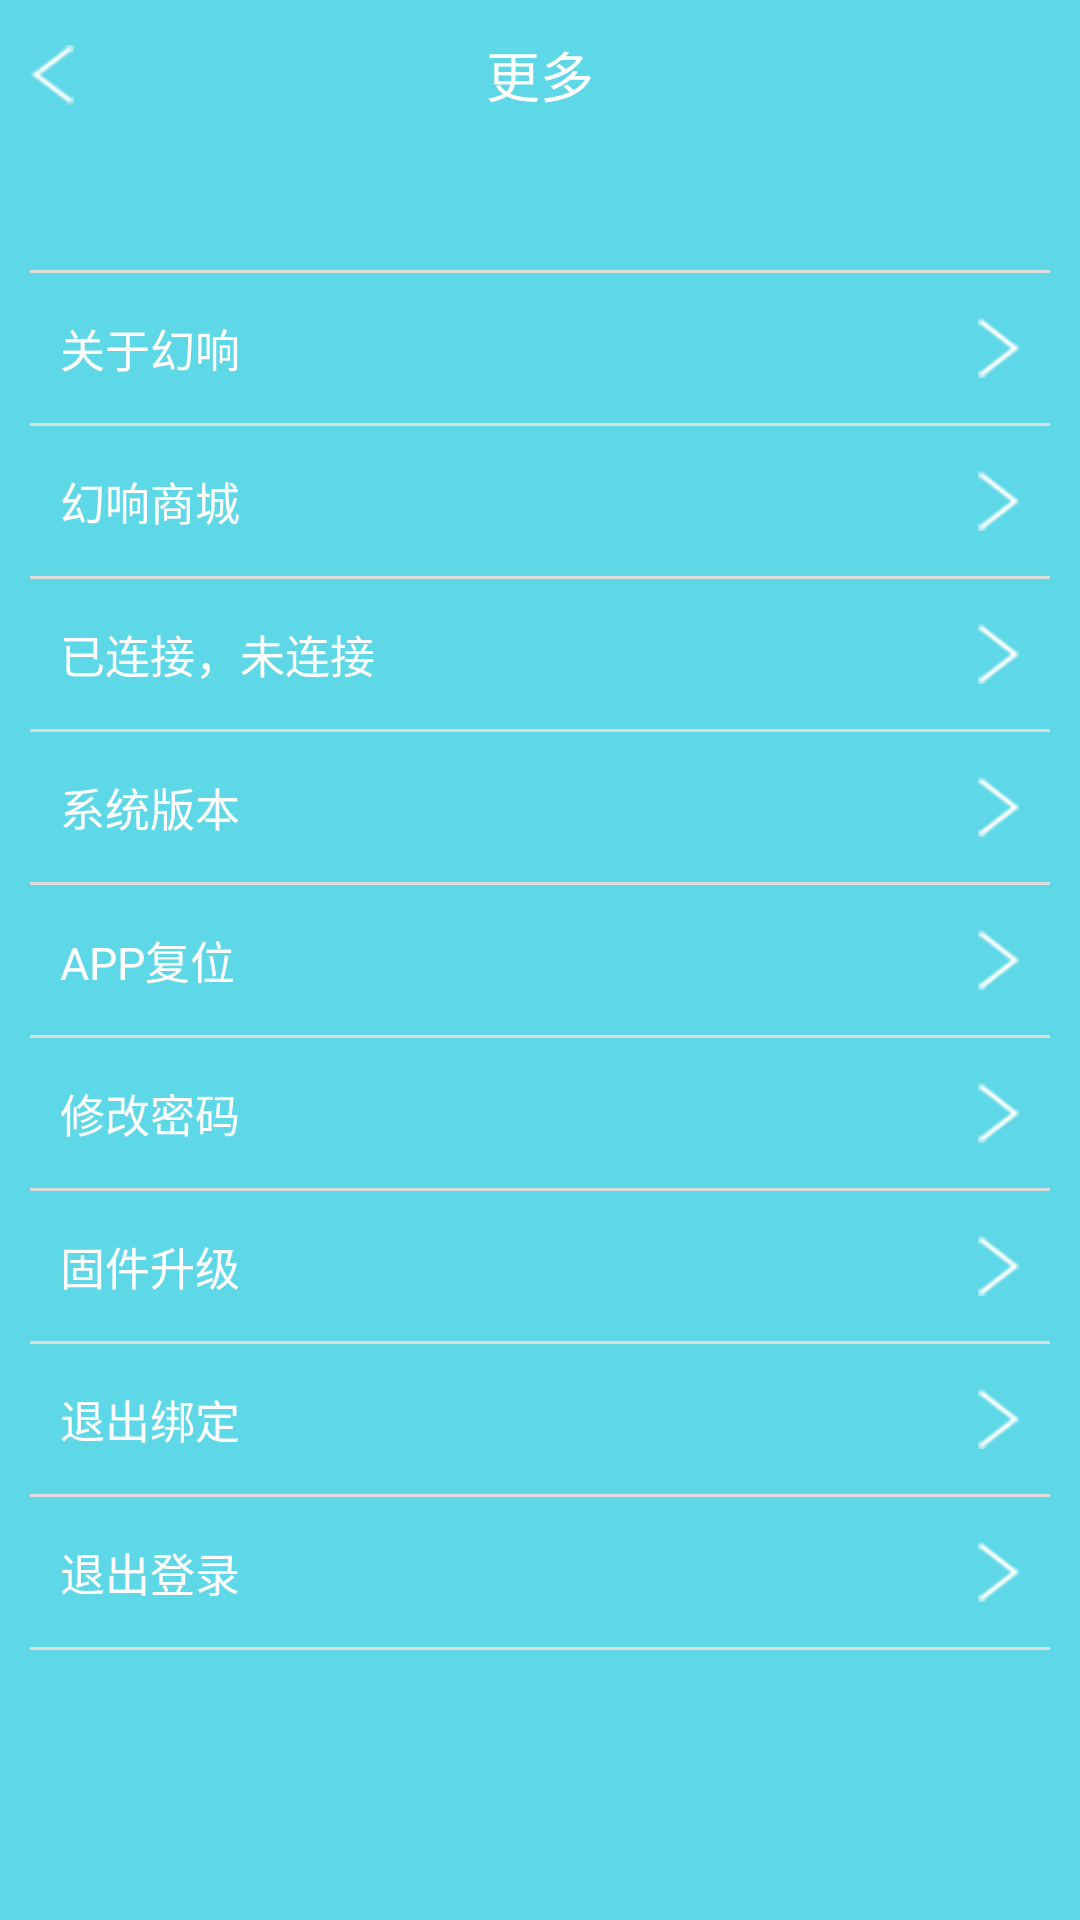

Icons on this 1080x1920 Android screen, each with the point to tap as (x=x, y=y):
back: (x=52, y=75)
